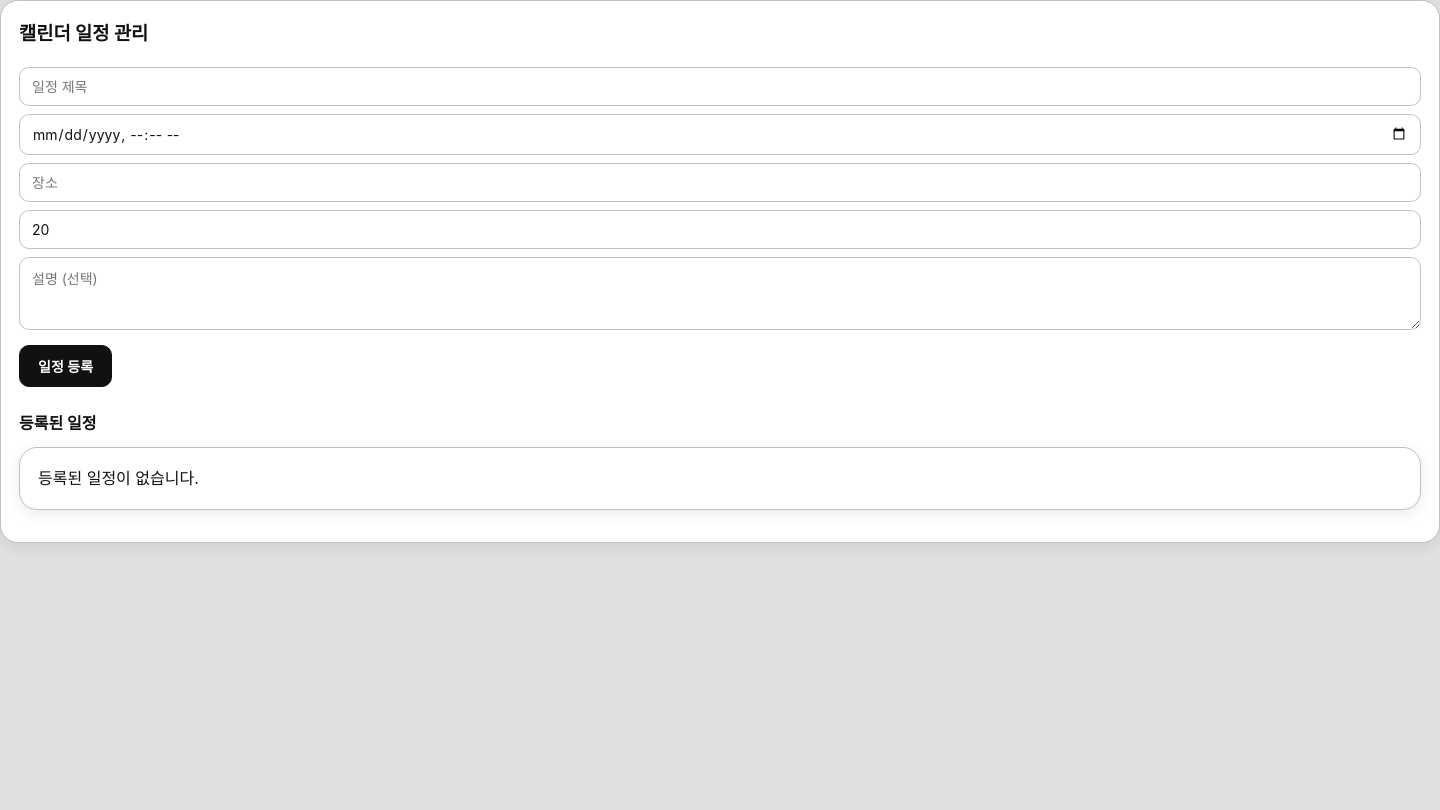
it: SeminarAdmin › 등록 실패 메시지를 보여준다
The image size is (1440, 810).
In the field with placeholder "일정 제목": {"x": 720, "y": 86} [19, 67, 1421, 106], type "특강"
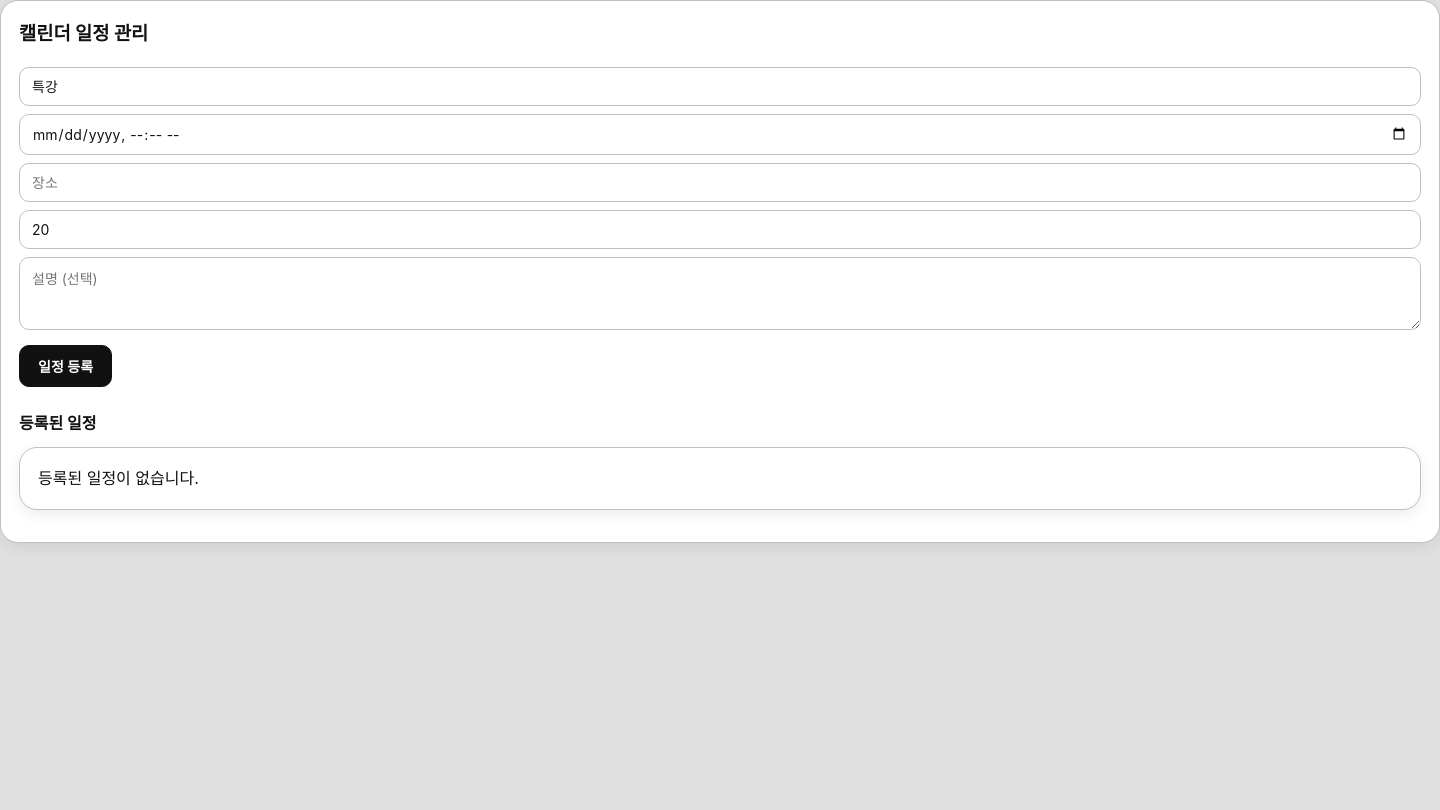
In the field named "일정 날짜 및 시간": {"x": 720, "y": 134} [19, 114, 1421, 155], type "2026-09-20T14:00"
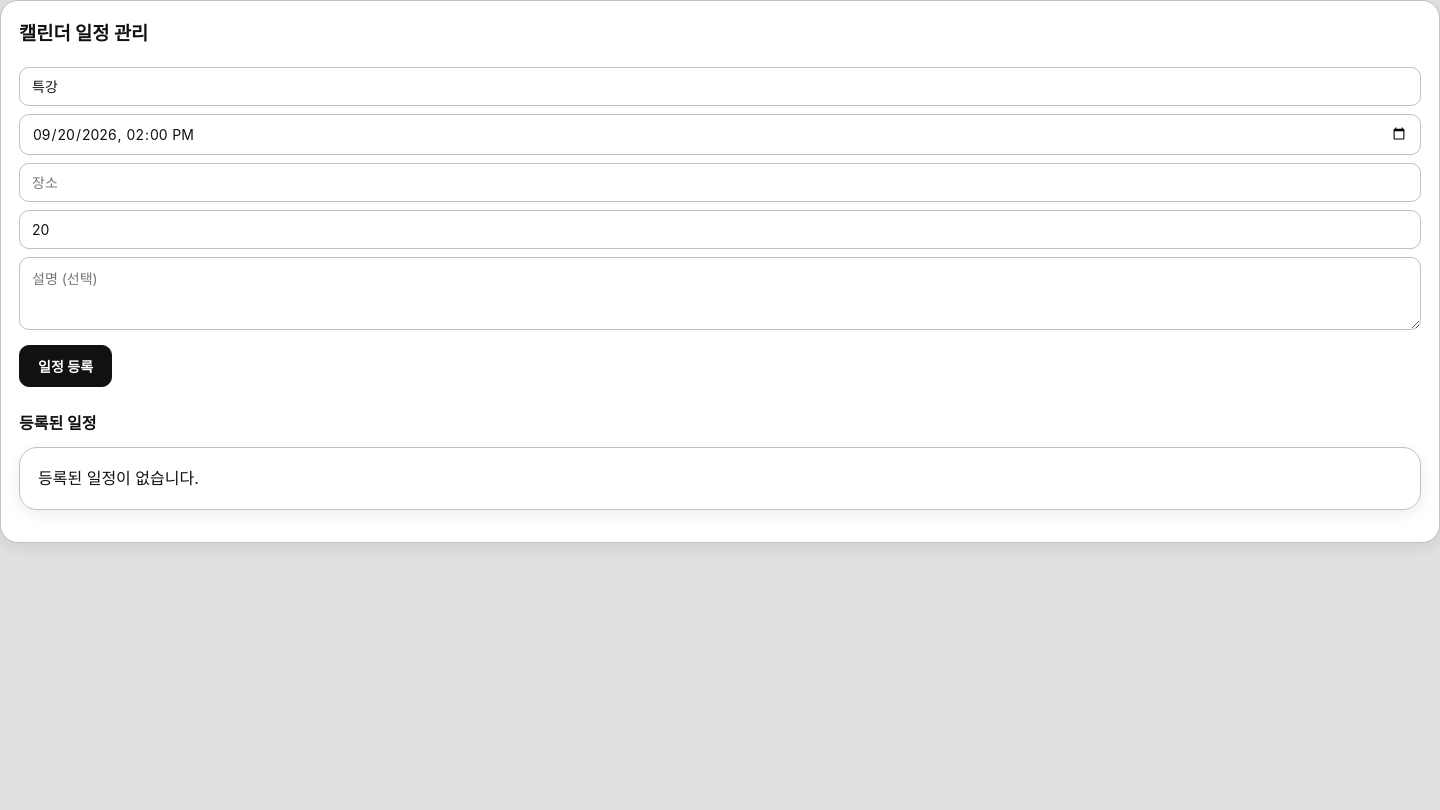
Click the button "일정 등록": {"x": 66, "y": 366} [19, 344, 112, 386]
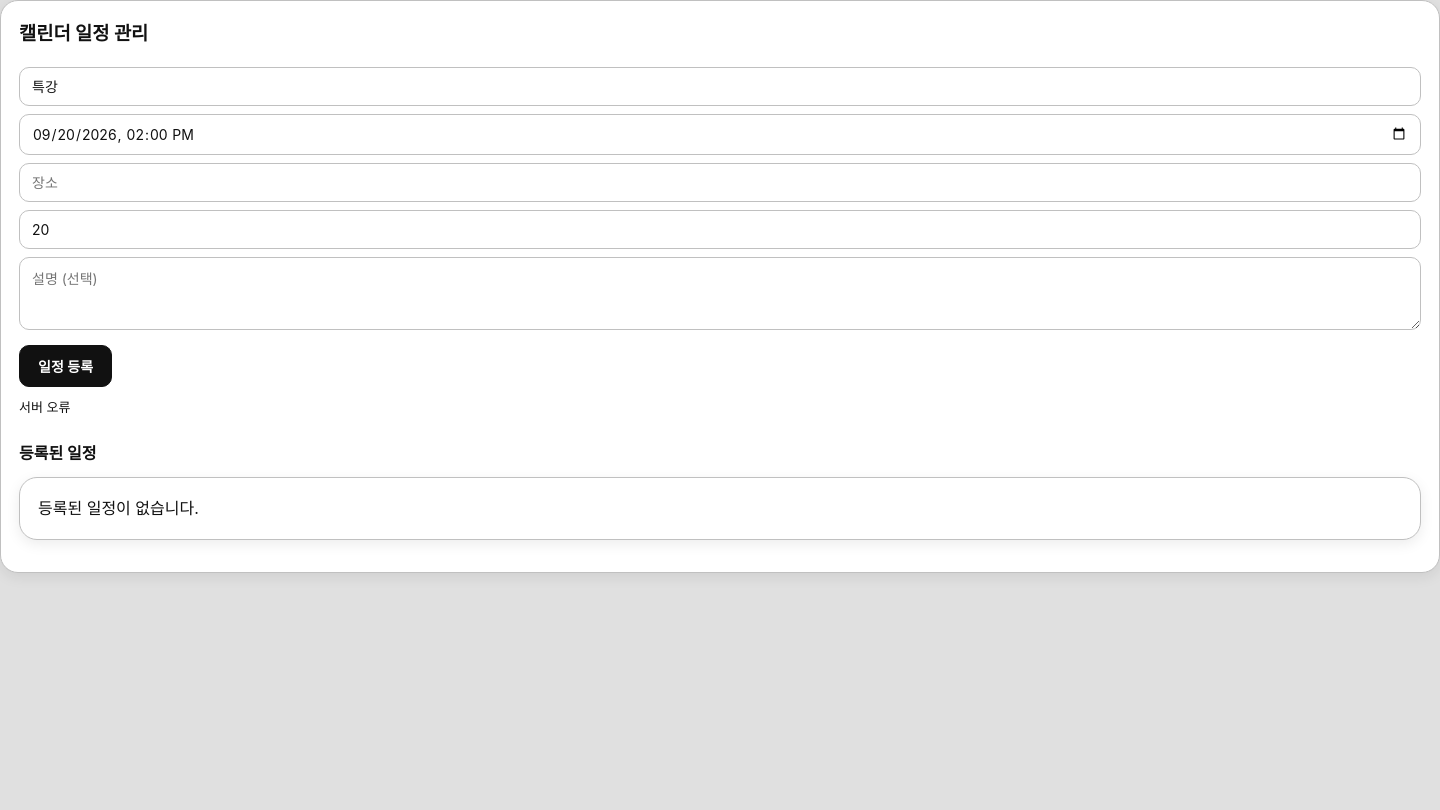
Check: the text "서버 오류" is shown, box [19, 398, 70, 414]
